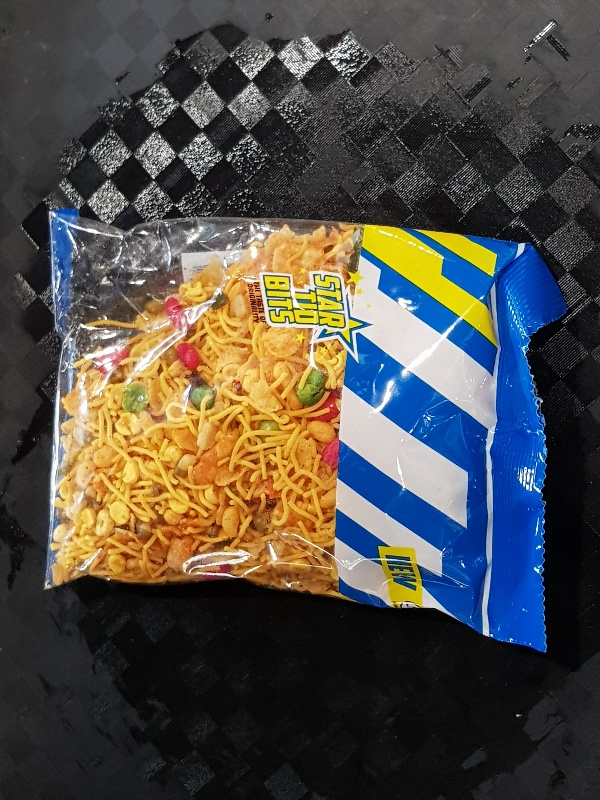Star Tidbits Mixer: (39, 202, 565, 655)
